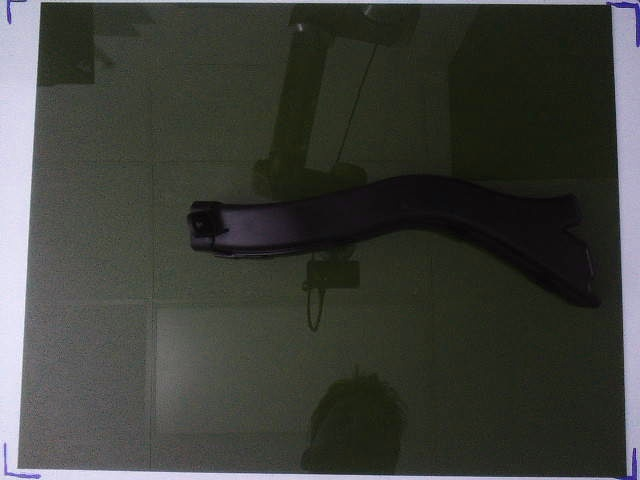887_B-Top: (188, 174, 599, 307)
